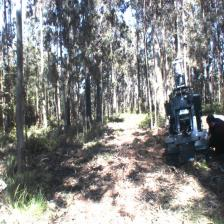trunktrack_idkeyframe: (16, 33, 24, 173)
